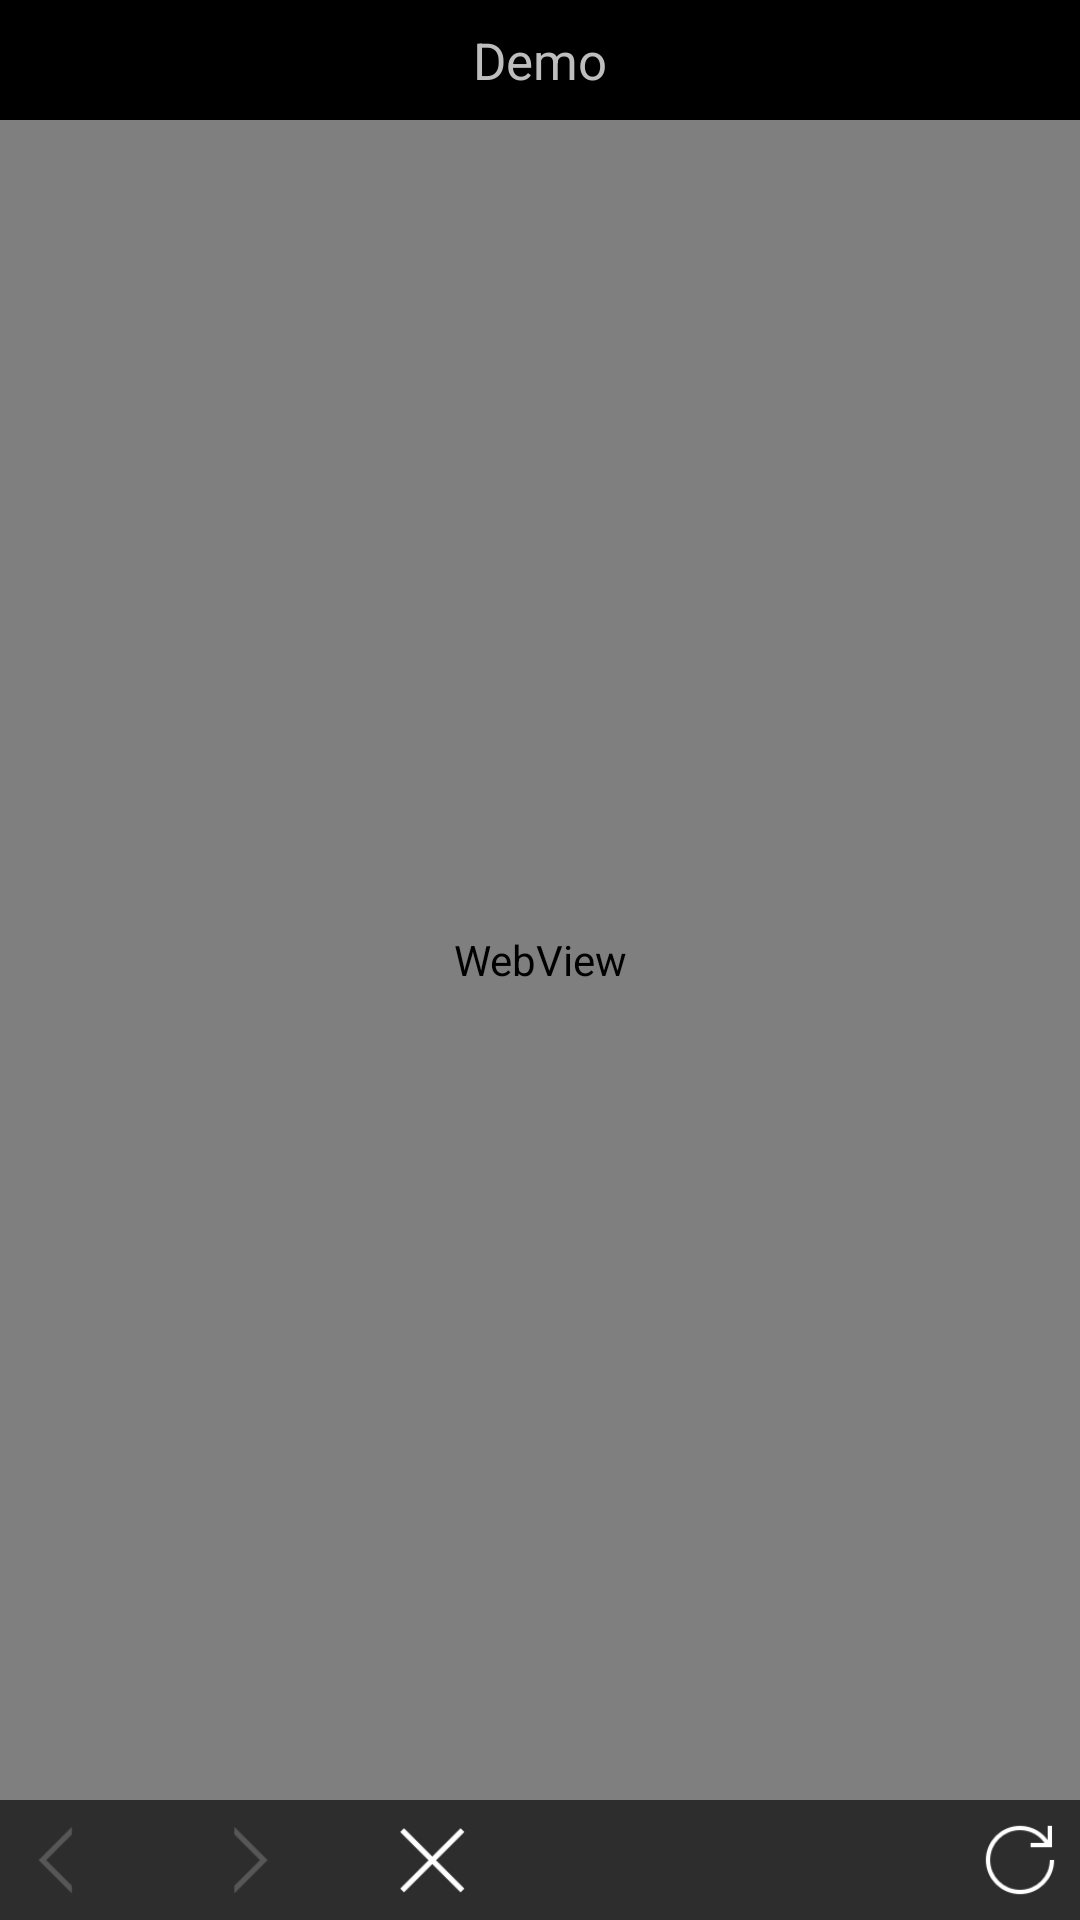

Point at icon controls on the screen. Image size 1080 × 1920, points as (x,y).
browser back disable: (55,1860)
browser close: (432,1860)
browser forward disable: (250,1860)
browser reload: (1020,1860)
